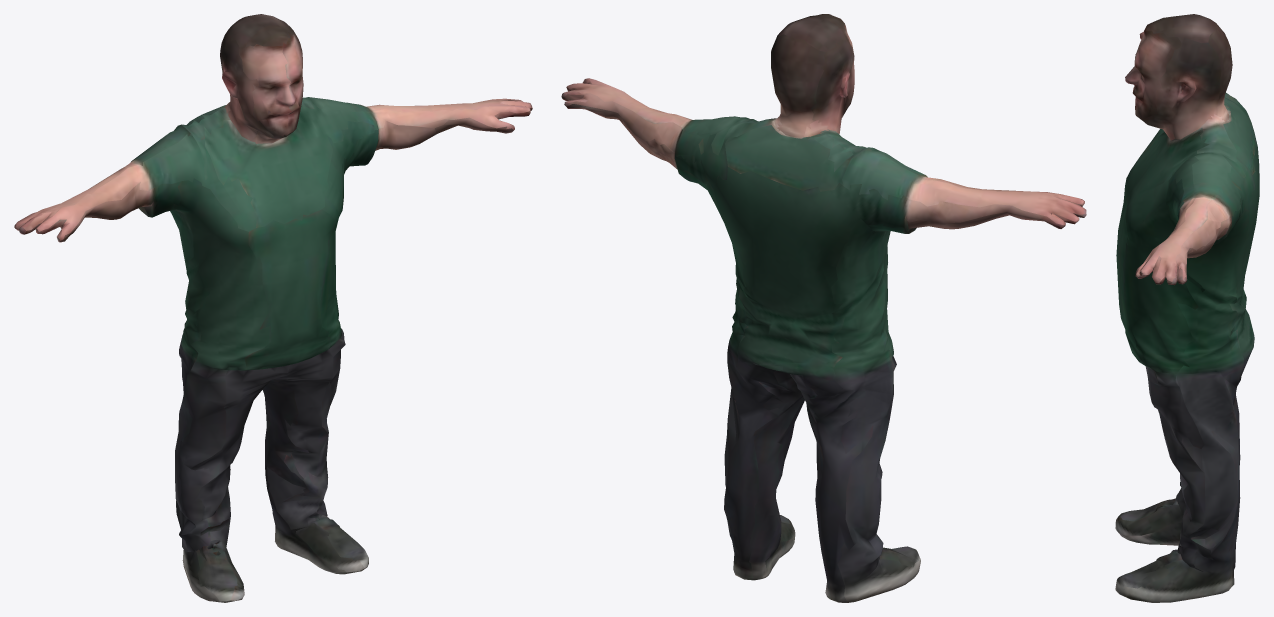
The model's file is person_22.glb.
3 renders of one model, left to right at view 1: azimuth 30°, elevation 25°; view 2: azimuth 150°, elevation 25°; view 3: azimuth 270°, elevation 25°, orthographic.
Visible parts, largest first — view 1: geometry_0; view 2: geometry_0; view 3: geometry_0.
Part boxes in pixels (bbox=[...]): geometry_0: bbox=[14, 14, 532, 602]; geometry_0: bbox=[561, 14, 1086, 602]; geometry_0: bbox=[1115, 14, 1259, 602].
Bounding box in the file's own units: 1.23 × 1.25 × 0.2988.
Materials: 1 (1 with a texture image).
